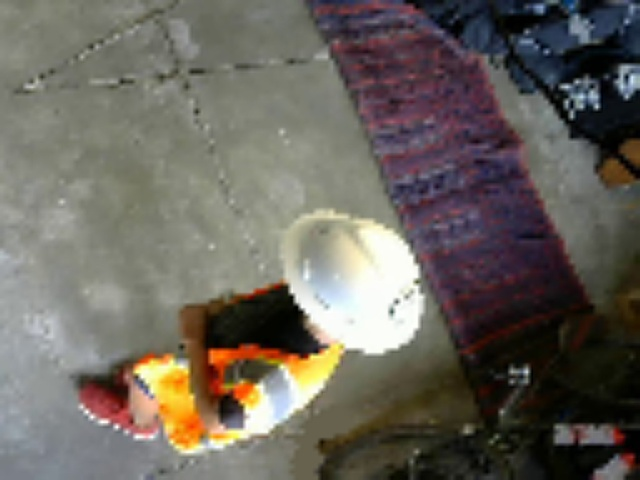three: (383, 280, 433, 323)
